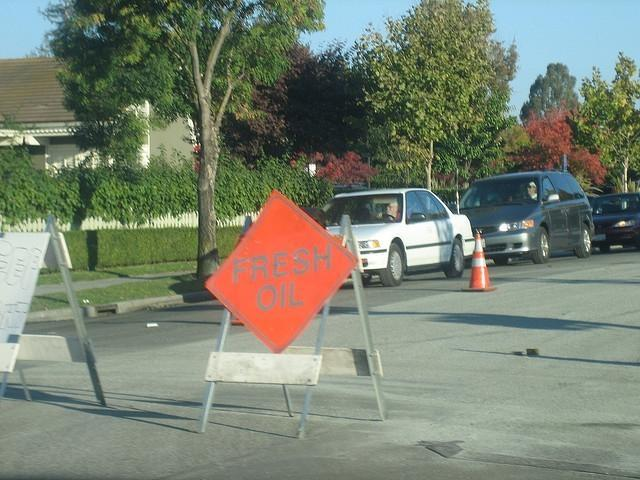car: (320, 186, 478, 292), (459, 171, 597, 267), (591, 192, 640, 251)
